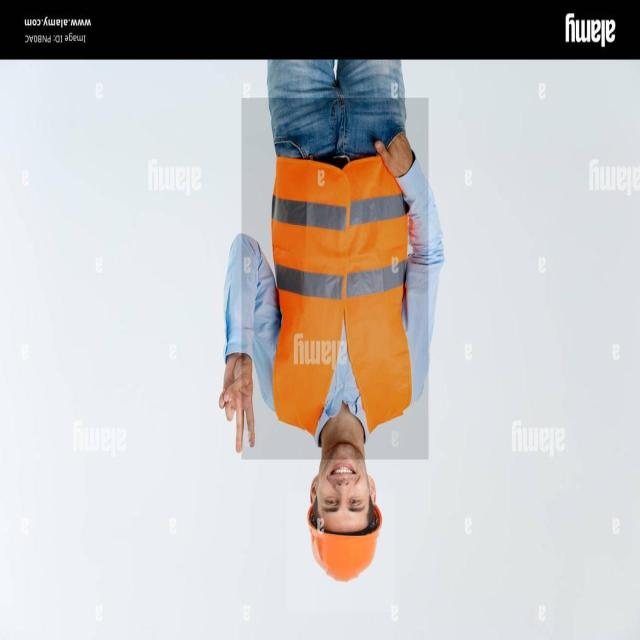Helmet: (287, 492, 394, 612)
Safety Vest: (242, 98, 428, 460)
